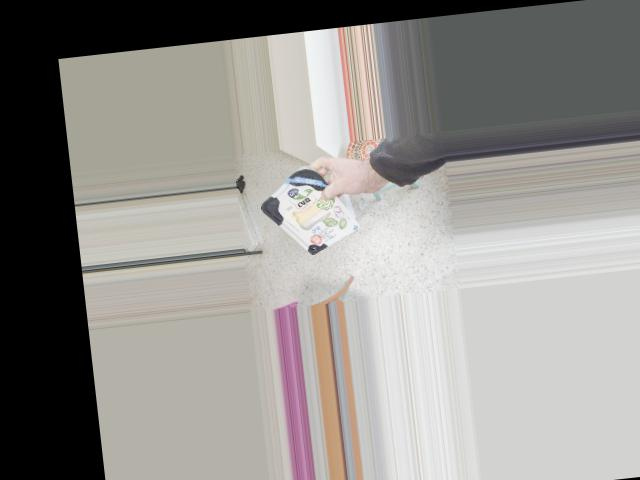cheese: (258, 159, 356, 268)
